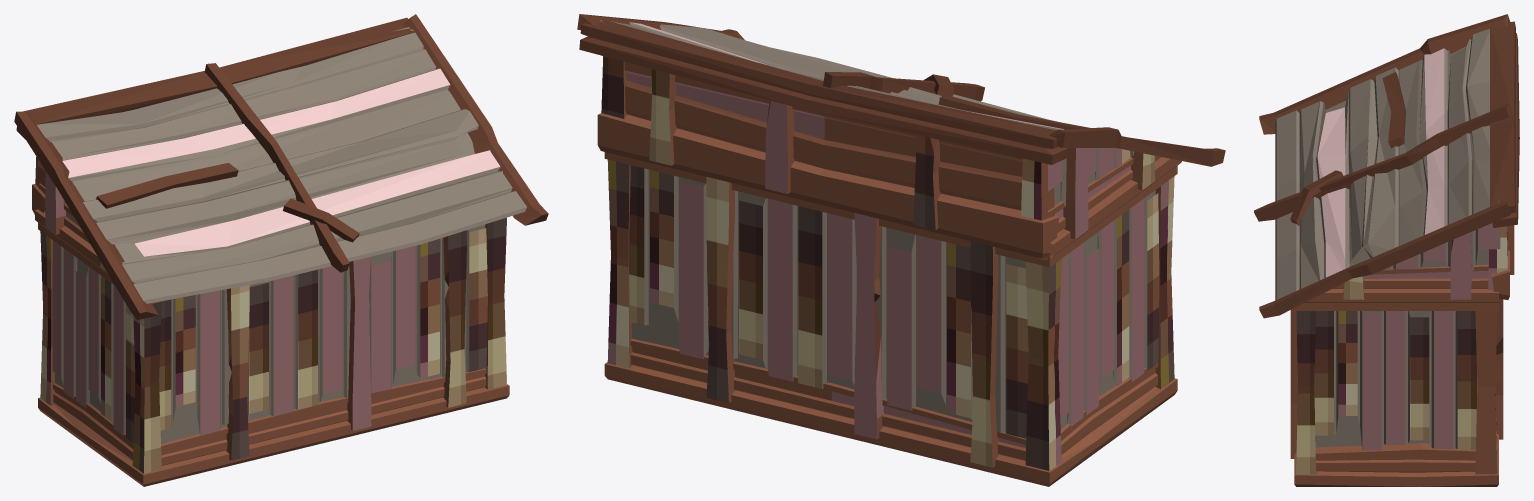
The model's file is SM_Bld_Shanty_SideAttachment_01.glb.
3 views of the same model, side by side, from view 1: azimuth 30°, elevation 25°; view 2: azimuth 150°, elevation 25°; view 3: azimuth 270°, elevation 25° (orthographic). The views are drawn at different scales.
Parts seen in each view (by area): view 1: SM_Bld_Shanty_SideAttachment_01_00; view 2: SM_Bld_Shanty_SideAttachment_01_00; view 3: SM_Bld_Shanty_SideAttachment_01_00.
Boxes of the visible parts, x1,y1,x2,y2 form: SM_Bld_Shanty_SideAttachment_01_00: [14, 14, 548, 486]; SM_Bld_Shanty_SideAttachment_01_00: [577, 14, 1225, 486]; SM_Bld_Shanty_SideAttachment_01_00: [1254, 14, 1519, 486].
Size of the model in its own units: 5.58 by 3.93 by 3.23.
Materials: 1 (1 with a texture image).
